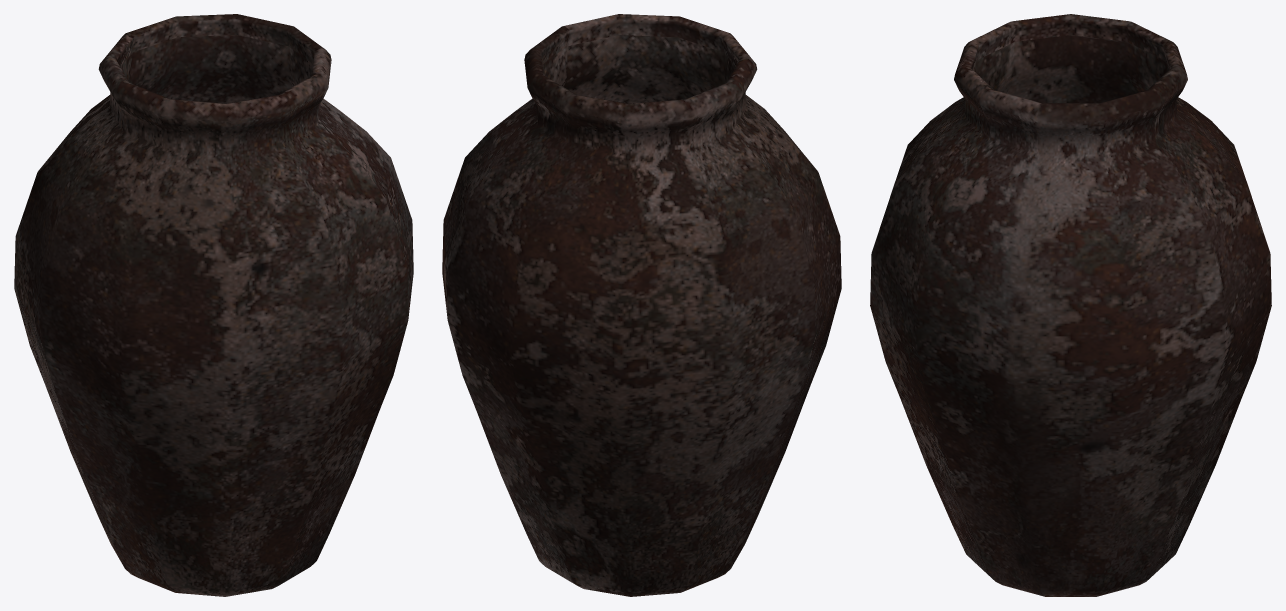
File: pottery_1.fbx
3 views of the same model, side by side, from view 1: azimuth 30°, elevation 25°; view 2: azimuth 150°, elevation 25°; view 3: azimuth 270°, elevation 25° (orthographic).
Parts seen in each view (by area): view 1: pottery_1; view 2: pottery_1; view 3: pottery_1.
Boxes of the visible parts, x1=… form: pottery_1: x1=14, y1=14, x2=413, y2=596; pottery_1: x1=442, y1=14, x2=841, y2=596; pottery_1: x1=870, y1=14, x2=1271, y2=596.
Size of the model in its own units: 56.72 by 78.82 by 57.31.
